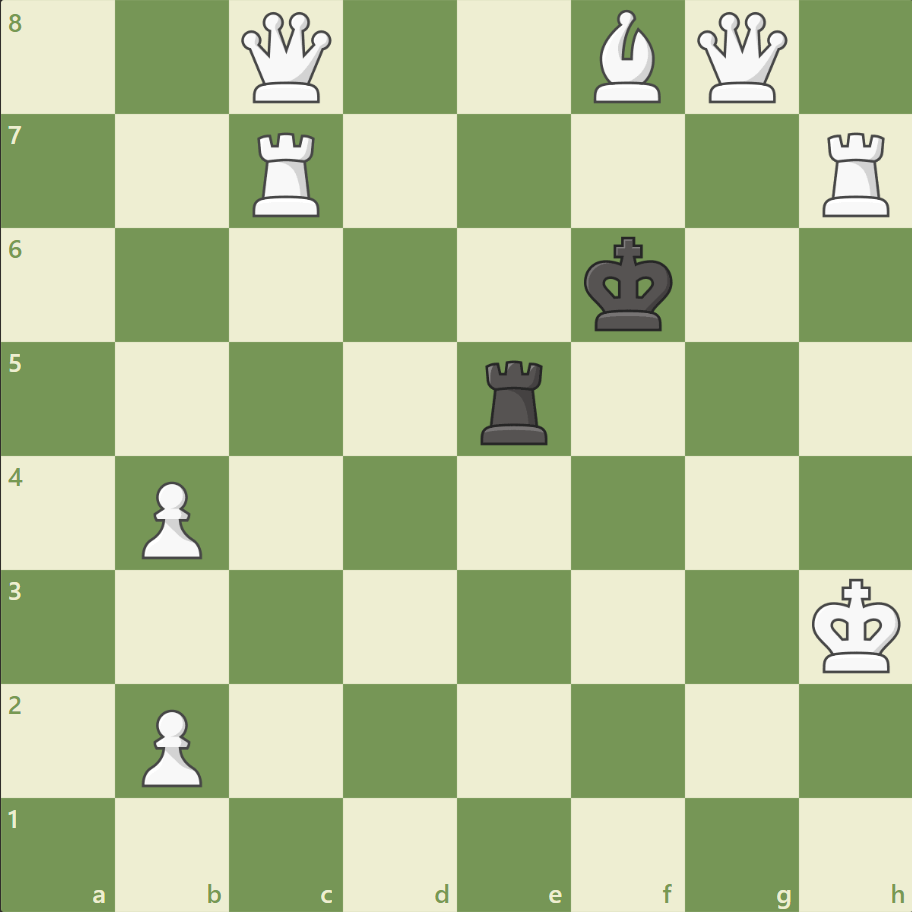B: (585, 6, 669, 109)
K: (806, 571, 906, 679)
P: (133, 473, 208, 564), (133, 700, 208, 791)
Q: (237, 9, 336, 108), (691, 9, 790, 108)
R: (246, 125, 329, 222), (814, 125, 897, 222)
k: (579, 231, 679, 339)
r: (473, 352, 556, 449)
